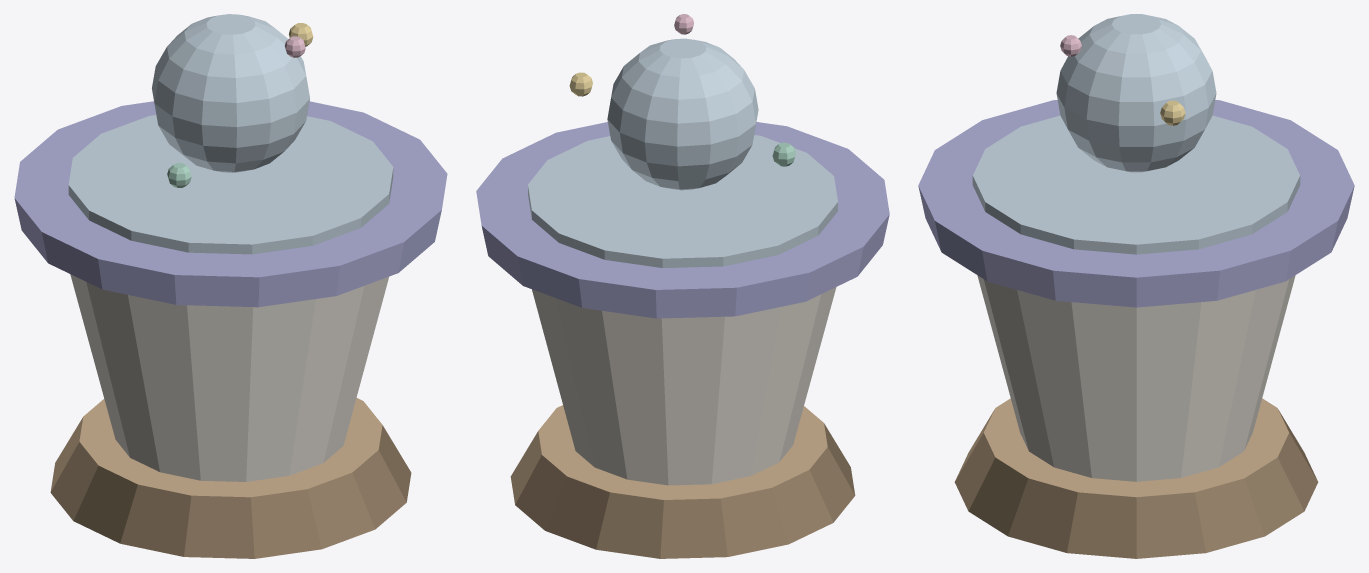
The model's file is hologram_table.glb.
3 views of the same model, side by side, from view 1: azimuth 30°, elevation 25°; view 2: azimuth 150°, elevation 25°; view 3: azimuth 270°, elevation 25° (orthographic). The views are drawn at different scales.
Visible parts, largest first — view 1: hologram_table; view 2: hologram_table; view 3: hologram_table.
Boxes of the visible parts, bbox=[...] form: hologram_table: bbox=[14, 14, 447, 558]; hologram_table: bbox=[476, 14, 889, 558]; hologram_table: bbox=[918, 14, 1354, 558].
Bounding box in the file's own units: 1.2 × 1.4 × 1.2.
